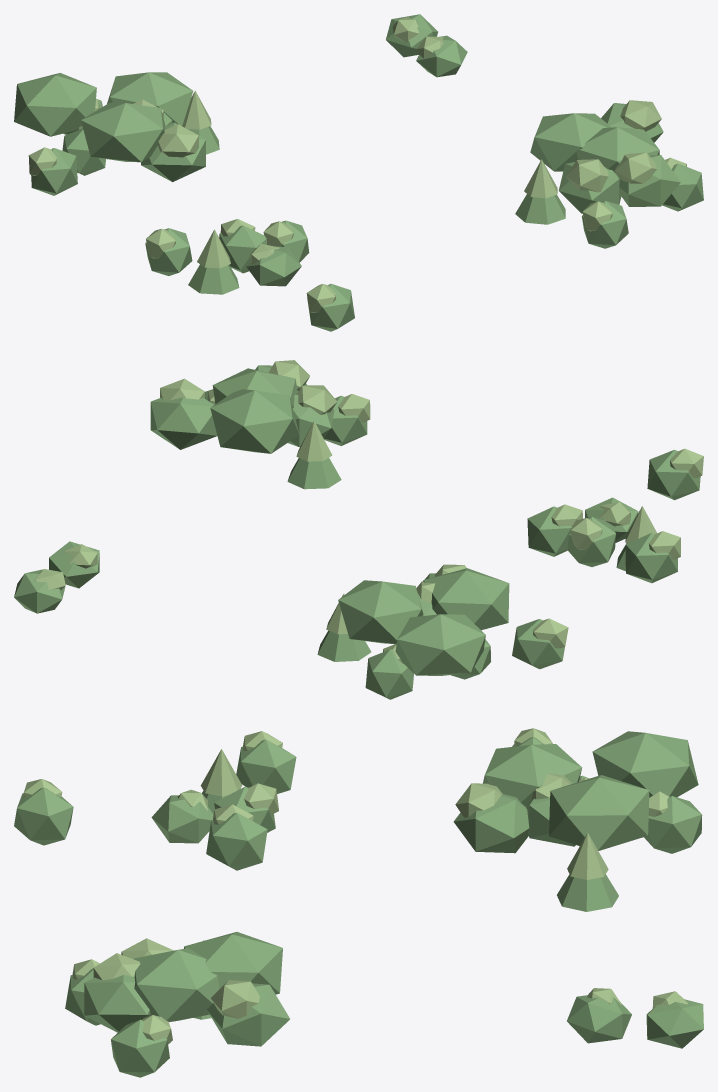
The model's file is shaded_grove_wind_canopies.fbx.
3 views of the same model, one above another, from view 1: azimuth 30°, elevation 25°; view 2: azimuth 150°, elevation 25°; view 3: azimuth 270°, elevation 25° (orthographic). The views are drawn at different scales.
Parts seen in each view (by area): view 1: chunk_shaded_grove__tree_canopy_14, chunk_shaded_grove__tree_canopy_07, chunk_shaded_grove__tree_canopy_34, chunk_shaded_grove__tree_canopy_25, chunk_shaded_grove__tree_canopy_39, chunk_shaded_grove__tree_canopy_41, chunk_shaded_grove__tree_canopy_23, chunk_shaded_grove__tree_canopy_16, chunk_shaded_grove__tree_canopy_03, chunk_shaded_grove__tree_canopy_33, chunk_shaded_grove__tree_canopy_15, chunk_shaded_grove__tree_canopy_12 (+23 smaller); view 2: chunk_shaded_grove__tree_canopy_07, chunk_shaded_grove__tree_canopy_34, chunk_shaded_grove__tree_canopy_25, chunk_shaded_grove__tree_canopy_14, chunk_shaded_grove__tree_canopy_42, chunk_shaded_grove__tree_canopy_18, chunk_shaded_grove__tree_canopy_04, chunk_shaded_grove__tree_canopy_39, chunk_shaded_grove__tree_canopy_15, chunk_shaded_grove__tree_canopy_03, chunk_shaded_grove__tree_canopy_24, chunk_shaded_grove__tree_canopy_40 (+19 smaller); view 3: chunk_shaded_grove__tree_canopy_25, chunk_shaded_grove__tree_canopy_07, chunk_shaded_grove__tree_canopy_39, chunk_shaded_grove__tree_canopy_14, chunk_shaded_grove__tree_canopy_34, chunk_shaded_grove__tree_canopy_23, chunk_shaded_grove__tree_canopy_41, chunk_shaded_grove__tree_canopy_42, chunk_shaded_grove__tree_canopy_24, chunk_shaded_grove__tree_canopy_15, chunk_shaded_grove__tree_canopy_04, chunk_shaded_grove__tree_canopy_18 (+17 smaller).
Boxes of the visible parts, left/top/right/bottom form: chunk_shaded_grove__tree_canopy_14: left=81, top=102, right=165, bottom=162; chunk_shaded_grove__tree_canopy_07: left=14, top=73, right=96, bottom=136; chunk_shaded_grove__tree_canopy_34: left=530, top=113, right=611, bottom=171; chunk_shaded_grove__tree_canopy_25: left=107, top=72, right=193, bottom=125; chunk_shaded_grove__tree_canopy_39: left=576, top=127, right=659, bottom=172; chunk_shaded_grove__tree_canopy_41: left=617, top=155, right=680, bottom=206; chunk_shaded_grove__tree_canopy_23: left=141, top=122, right=205, bottom=182; chunk_shaded_grove__tree_canopy_16: left=246, top=246, right=301, bottom=286; chunk_shaded_grove__tree_canopy_03: left=31, top=148, right=77, bottom=195; chunk_shaded_grove__tree_canopy_33: left=558, top=162, right=621, bottom=213; chunk_shaded_grove__tree_canopy_15: left=307, top=283, right=354, bottom=331; chunk_shaded_grove__tree_canopy_12: left=219, top=225, right=266, bottom=273; chunk_shaded_grove__tree_canopy_07: left=395, top=614, right=485, bottom=675; chunk_shaded_grove__tree_canopy_34: left=210, top=389, right=299, bottom=453; chunk_shaded_grove__tree_canopy_25: left=338, top=580, right=423, bottom=644; chunk_shaded_grove__tree_canopy_14: left=423, top=568, right=509, bottom=630; chunk_shaded_grove__tree_canopy_42: left=150, top=397, right=217, bottom=449; chunk_shaded_grove__tree_canopy_18: left=365, top=649, right=413, bottom=699; chunk_shaded_grove__tree_canopy_04: left=625, top=533, right=677, bottom=583; chunk_shaded_grove__tree_canopy_39: left=212, top=368, right=297, bottom=407; chunk_shaded_grove__tree_canopy_15: left=647, top=449, right=700, bottom=500; chunk_shaded_grove__tree_canopy_03: left=512, top=619, right=564, bottom=669; chunk_shaded_grove__tree_canopy_24: left=527, top=506, right=572, bottom=556; chunk_shaded_grove__tree_canopy_40: left=14, top=569, right=65, bottom=613; chunk_shaded_grove__tree_canopy_25: left=549, top=775, right=649, bottom=850; chunk_shaded_grove__tree_canopy_07: left=592, top=731, right=698, bottom=797; chunk_shaded_grove__tree_canopy_39: left=134, top=948, right=219, bottom=1022; chunk_shaded_grove__tree_canopy_14: left=483, top=744, right=582, bottom=806; chunk_shaded_grove__tree_canopy_34: left=184, top=932, right=282, bottom=994; chunk_shaded_grove__tree_canopy_23: left=453, top=794, right=529, bottom=853; chunk_shaded_grove__tree_canopy_41: left=84, top=975, right=150, bottom=1032; chunk_shaded_grove__tree_canopy_42: left=206, top=983, right=289, bottom=1046; chunk_shaded_grove__tree_canopy_24: left=206, top=812, right=267, bottom=870; chunk_shaded_grove__tree_canopy_15: left=14, top=787, right=73, bottom=845; chunk_shaded_grove__tree_canopy_04: left=236, top=739, right=296, bottom=793; chunk_shaded_grove__tree_canopy_18: left=644, top=796, right=702, bottom=853.
Size of the model in its own units: 199 by 32.94 by 194.
